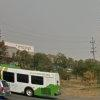Bus: (3, 60, 66, 100)
